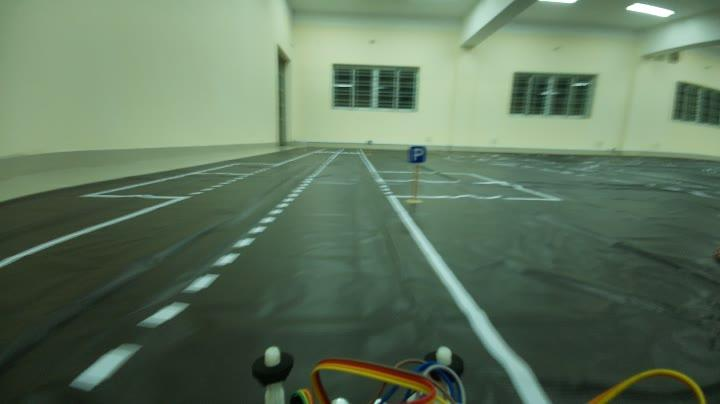parking: (403, 146, 430, 168)
